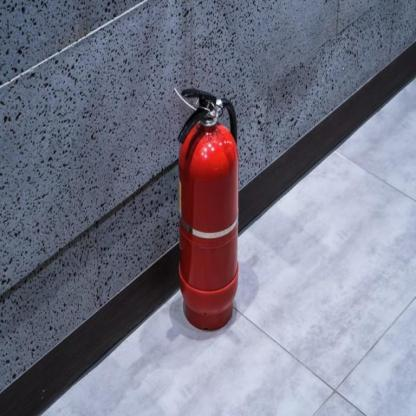Fire Extinguisher: (164, 71, 251, 343)
